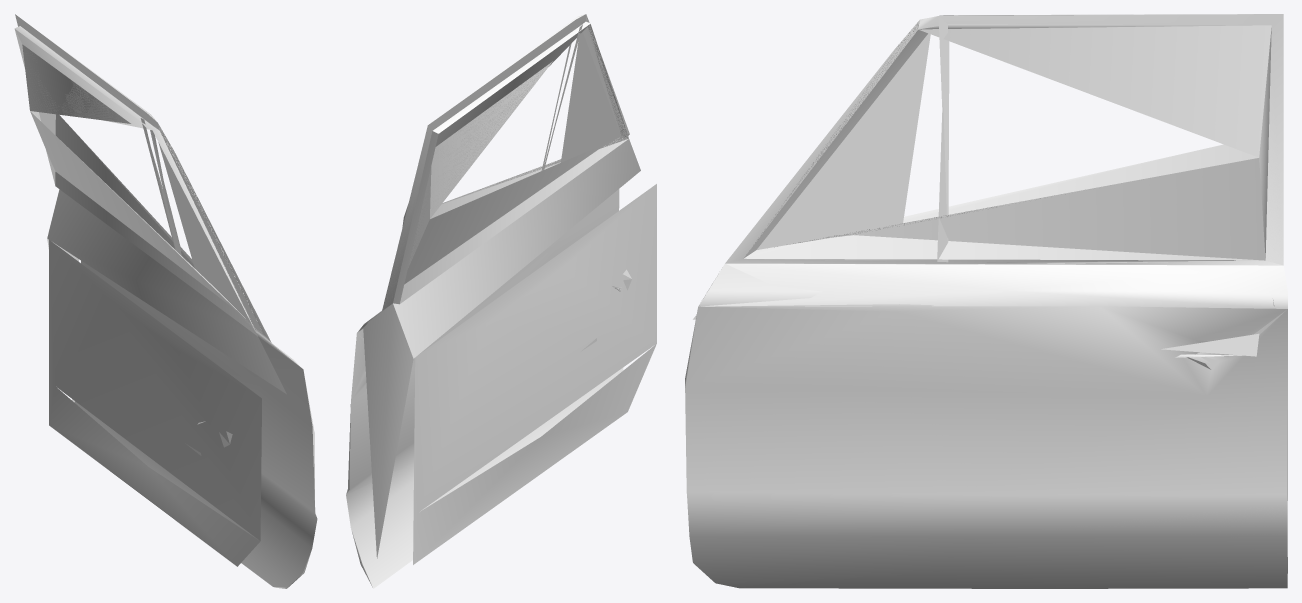
3 renders of one model, left to right at view 1: azimuth 30°, elevation 25°; view 2: azimuth 150°, elevation 25°; view 3: azimuth 270°, elevation 25°, orthographic. The views are drawn at different scales.
Size of the model in its own units: 0.1819 by 0.9485 by 0.9502.
Materials: 1 (1 with a texture image).
